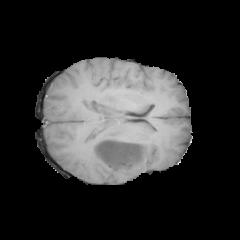glioma: (91, 74, 152, 172)
